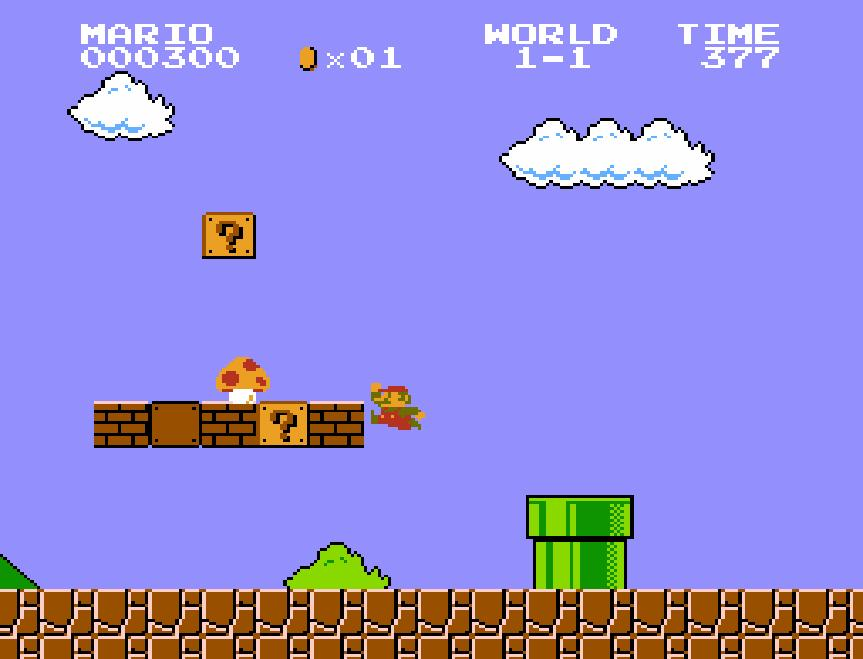little_mario: (368, 382, 426, 431)
